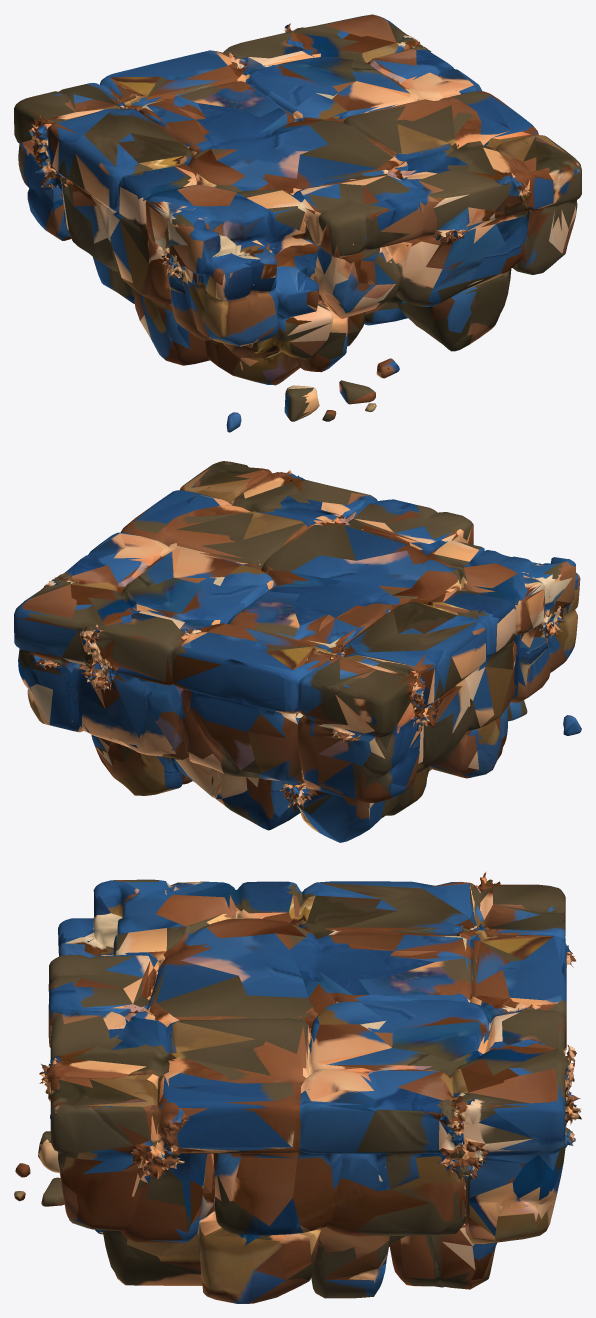
The model's file is VD_Platform_Damaged_01_LOD0.fbx.
The picture shows the model from 3 angles, top to bottom: view 1: azimuth 30°, elevation 25°; view 2: azimuth 150°, elevation 25°; view 3: azimuth 270°, elevation 25°; orthographic projection. The views are drawn at different scales.
Visible parts, largest first — view 1: Mesh_0; view 2: Mesh_0; view 3: Mesh_0.
Boxes of the visible parts, bbox=[...] form: Mesh_0: bbox=[14, 14, 581, 432]; Mesh_0: bbox=[14, 461, 581, 842]; Mesh_0: bbox=[14, 871, 581, 1303].
Size of the model in its own units: 187 by 92.16 by 190.
